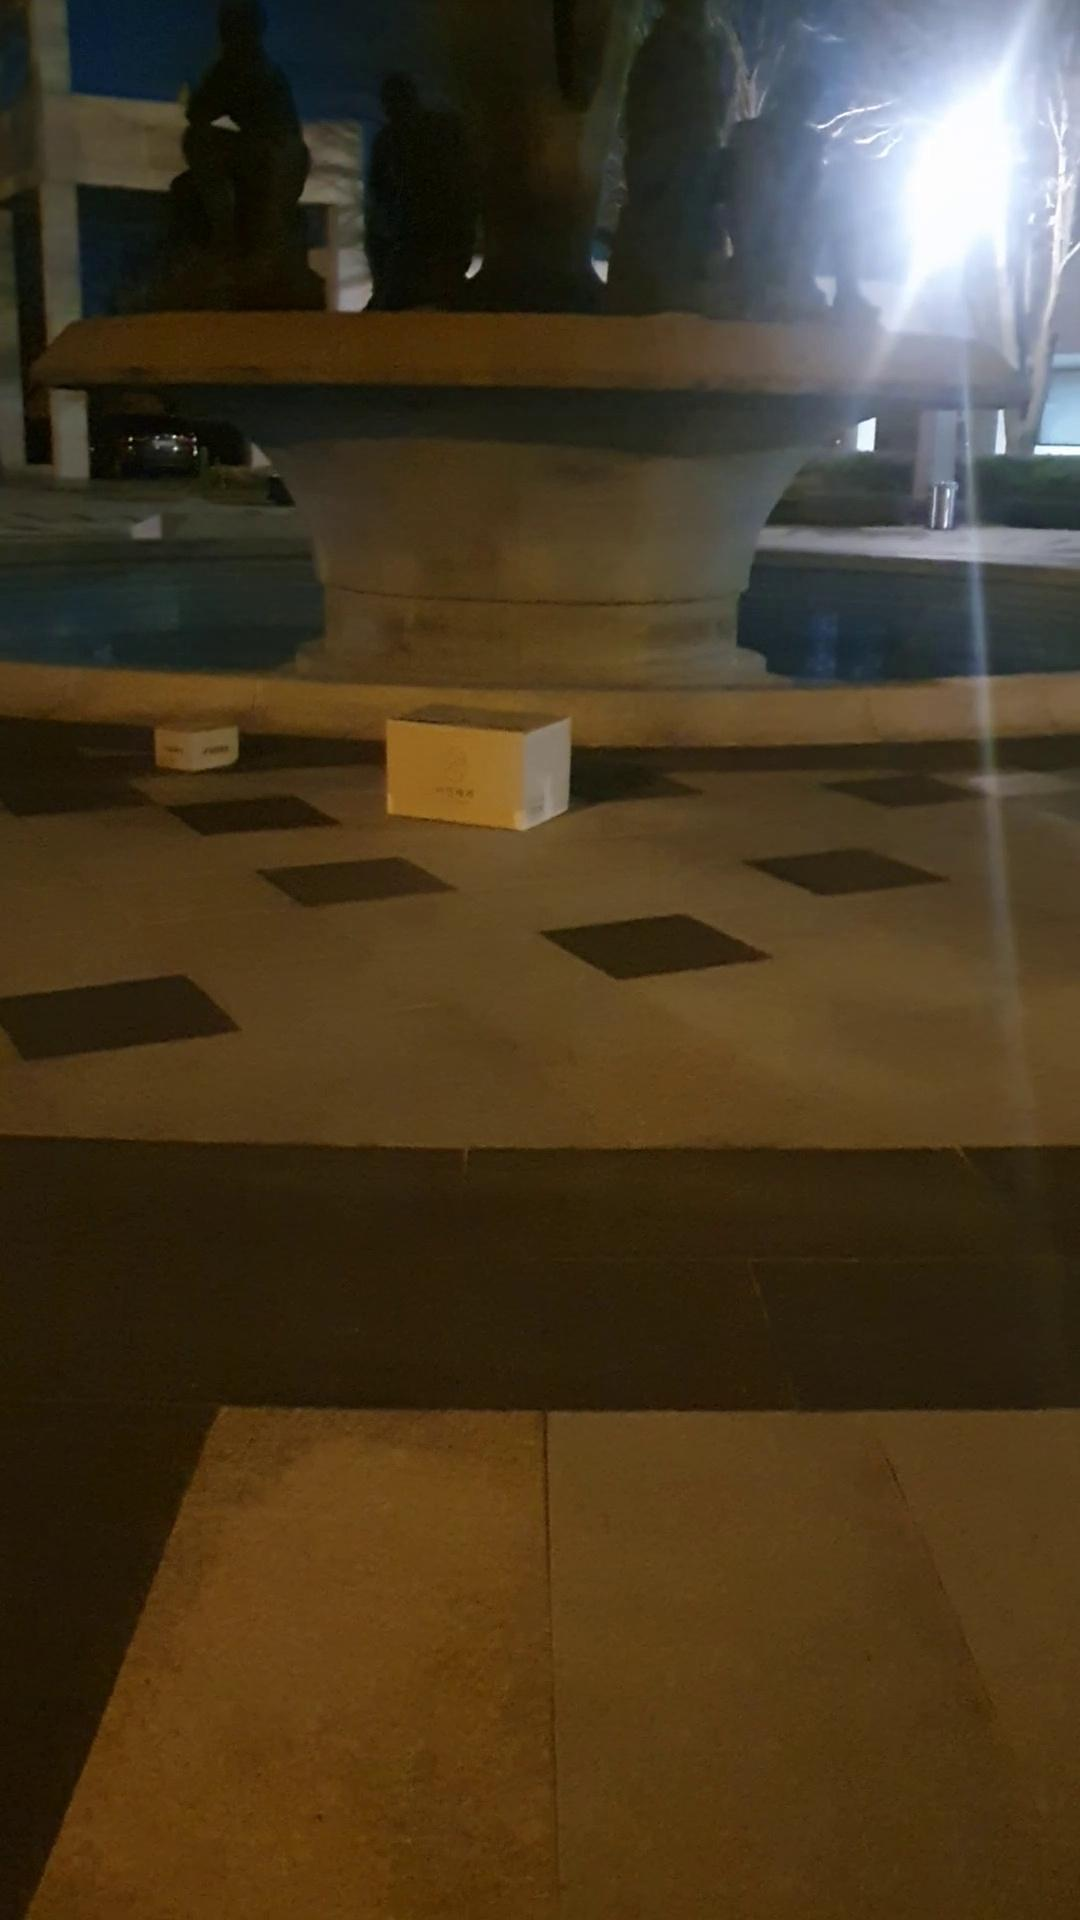Box: (376, 698, 580, 823), (152, 690, 237, 781)
